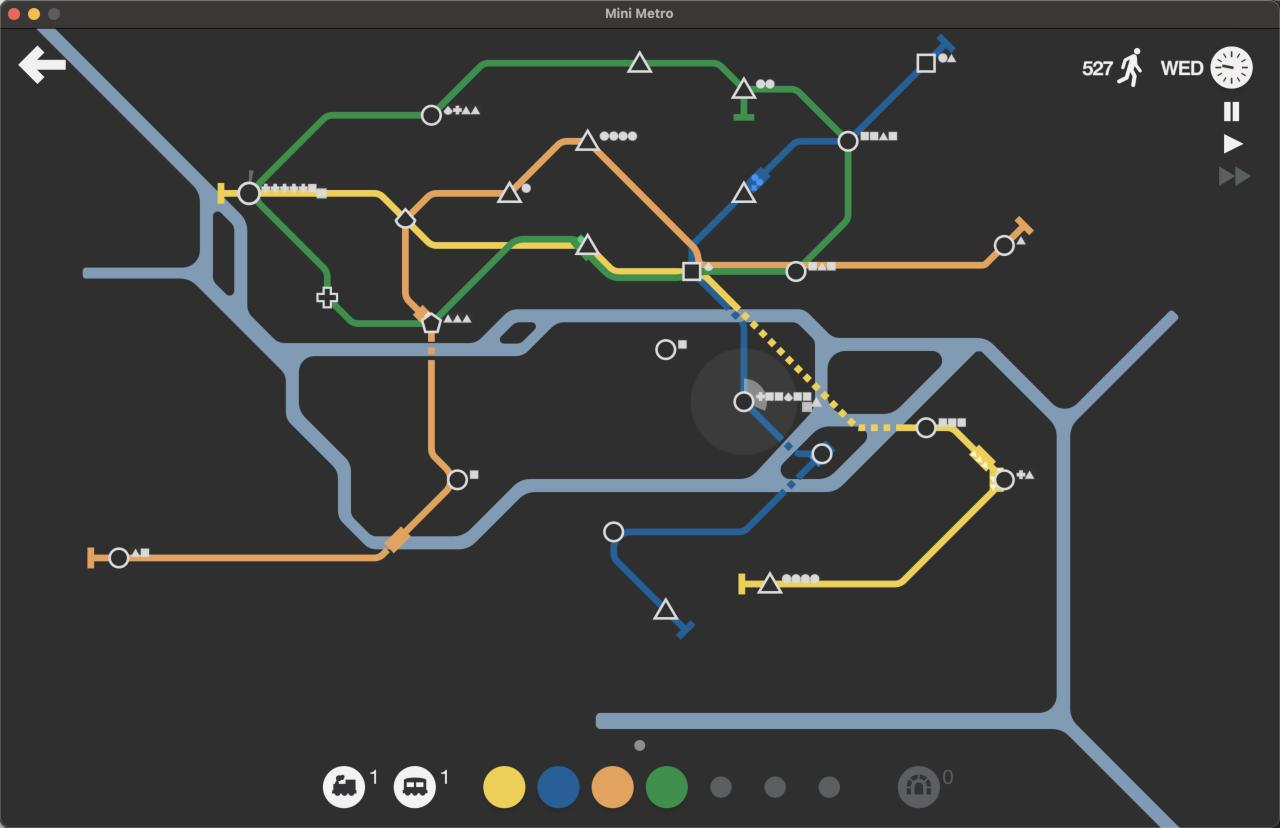BLUE LINE: (622, 458, 815, 536), (750, 138, 836, 190), (853, 70, 919, 135), (611, 542, 663, 606), (750, 408, 812, 459), (699, 282, 746, 325), (694, 202, 736, 244), (933, 35, 958, 58), (740, 325, 748, 390), (676, 618, 695, 639), (688, 248, 694, 261)
DARK GREEN LINE: (257, 112, 422, 185), (437, 235, 580, 318), (439, 59, 635, 110), (255, 200, 333, 286), (803, 150, 853, 260), (752, 85, 844, 136), (586, 254, 682, 282), (648, 58, 739, 87), (332, 304, 422, 328), (705, 268, 786, 277), (735, 98, 756, 120)
ORANGE YELLOW LINE: (129, 487, 450, 562), (594, 148, 792, 267), (804, 250, 999, 269), (428, 335, 453, 474), (515, 138, 583, 189), (411, 188, 504, 215), (403, 229, 428, 319), (1012, 216, 1035, 242), (88, 547, 108, 569)
YELLOW LINE: (704, 276, 916, 432), (777, 492, 996, 589), (262, 189, 402, 217), (937, 422, 999, 475), (411, 226, 505, 249), (595, 252, 682, 272), (734, 574, 765, 595), (516, 242, 573, 250), (218, 182, 236, 204)
